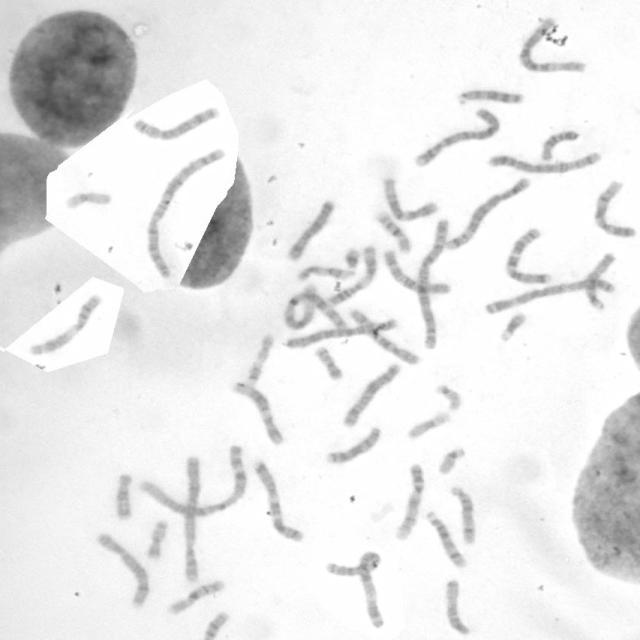A1: (135, 442, 250, 518), (282, 284, 350, 331)
A2: (144, 148, 228, 281), (414, 216, 450, 351)
A3: (323, 547, 387, 630), (483, 276, 617, 315)
B4: (409, 106, 501, 170), (182, 455, 204, 583)
B5: (441, 176, 532, 253), (479, 150, 604, 176)
C10: (345, 306, 422, 368), (382, 248, 454, 296)
C11: (29, 292, 105, 359), (325, 245, 379, 309)
C12: (231, 382, 287, 446), (381, 175, 440, 222)
C6: (515, 16, 589, 74), (282, 316, 399, 351)
C7: (252, 457, 307, 543), (503, 224, 553, 285)
C8: (93, 530, 152, 609), (132, 106, 221, 142)
C9: (392, 460, 427, 542), (593, 178, 637, 240)
D13: (322, 424, 382, 466), (452, 88, 526, 107)
D14: (424, 510, 468, 569), (448, 485, 478, 546)
D15: (581, 251, 617, 312), (444, 576, 474, 636)
E16: (164, 578, 227, 618), (375, 208, 415, 256)
E17: (244, 332, 274, 383), (295, 265, 346, 282)
E18: (539, 128, 581, 162), (114, 471, 134, 522)
F19: (406, 412, 451, 441), (63, 190, 110, 211)
F20: (144, 518, 171, 560), (314, 344, 344, 381)
G21: (496, 310, 530, 345), (341, 246, 363, 271)
G22: (435, 446, 468, 476), (435, 383, 463, 410)
X: (342, 362, 402, 427), (286, 198, 334, 261)
